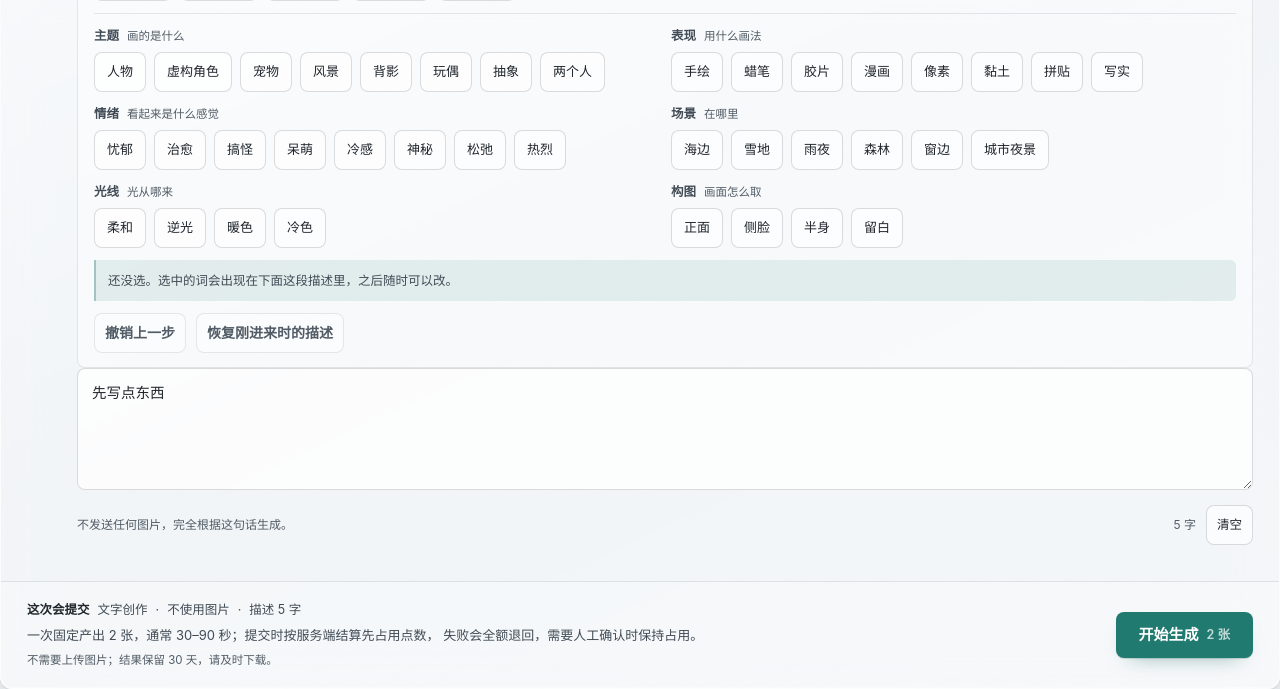
Test: 创作台的灵感分类 › 清空也能撤销回来
(page scrolled)
Click the button "清空" at (1230, 524), box 1206,504 -> 1253,544
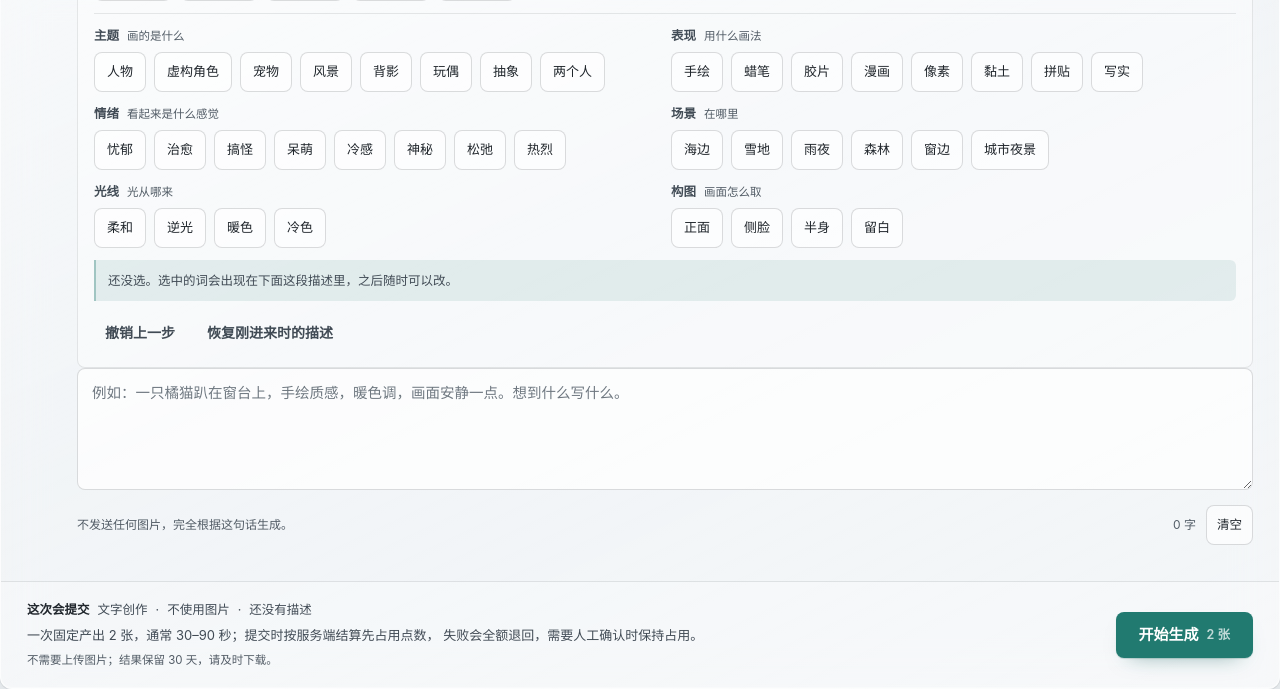
Expected: the text box with placeholder "例如：一只橘猫趴在窗台上，手绘质感，暖色调，画面安静一点。想到什么写什么。" is empty, 77,368 -> 1253,490
Click the button "撤销上一步" at (140, 333), box 94,313 -> 186,353
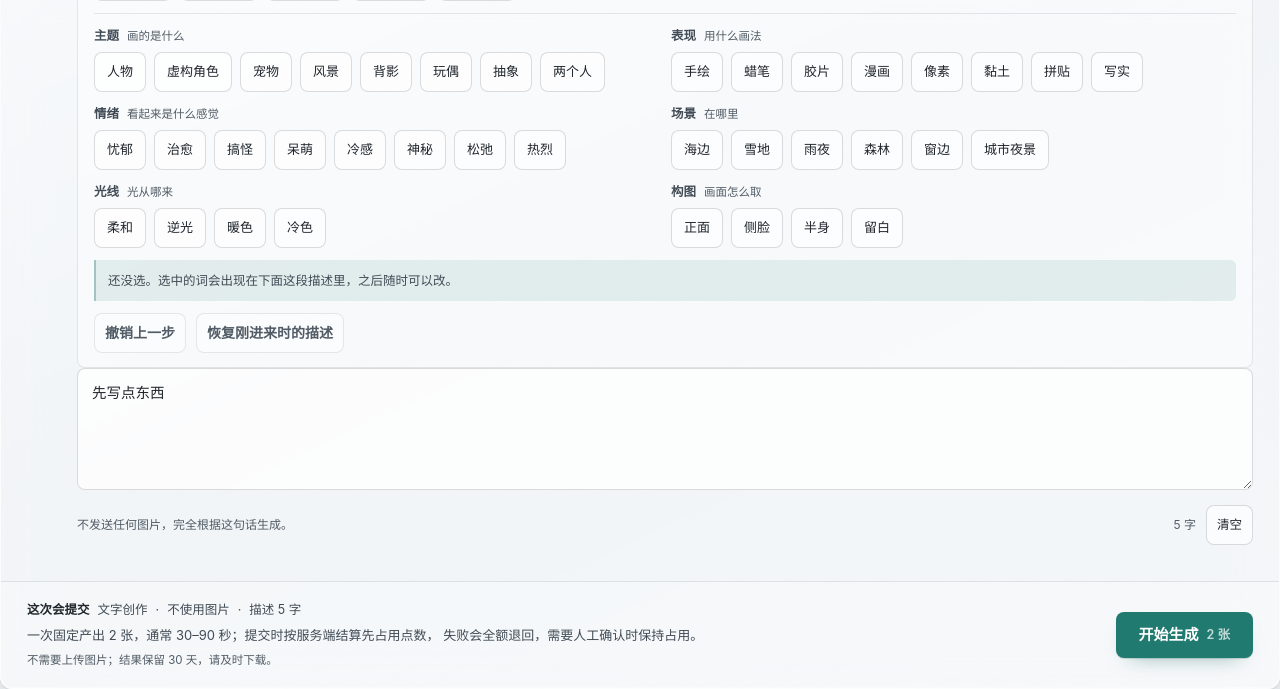
Expected: the text box holds "先写点东西", 77,368 -> 1253,490
